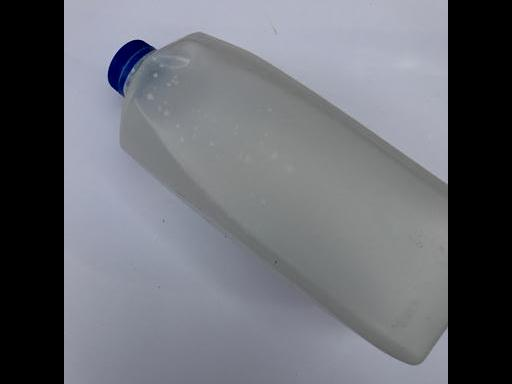bottle: (105, 30, 448, 368)
